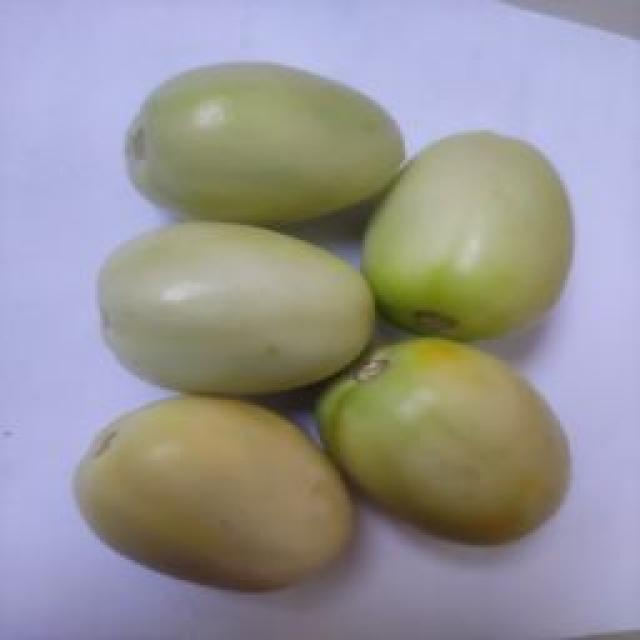unripe tomato: (72, 390, 358, 590), (316, 338, 574, 546), (97, 216, 370, 392), (124, 60, 406, 226), (364, 128, 574, 341)
